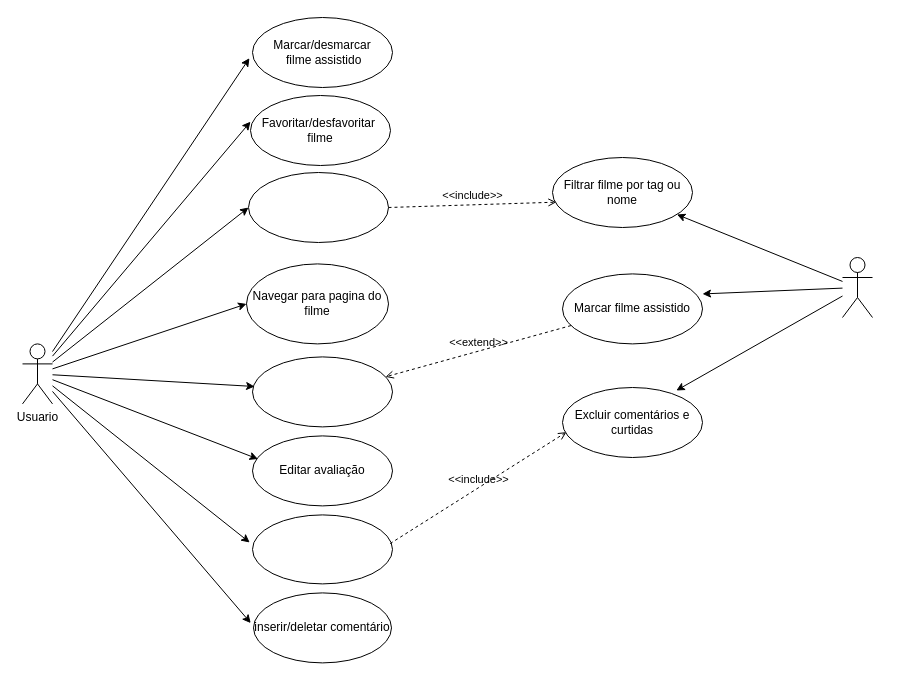
Some shapes in this 897 by 681 pixel diagram are drawn without their labels. Here are the shapes that lost their labels. From the top down, the centre of each, then its label:
the point at 318,207: Pesquisar filmes
the point at 857,287: SIstema
the point at 322,391: Registrar avaliação
the point at 322,549: Excluir avaliação
